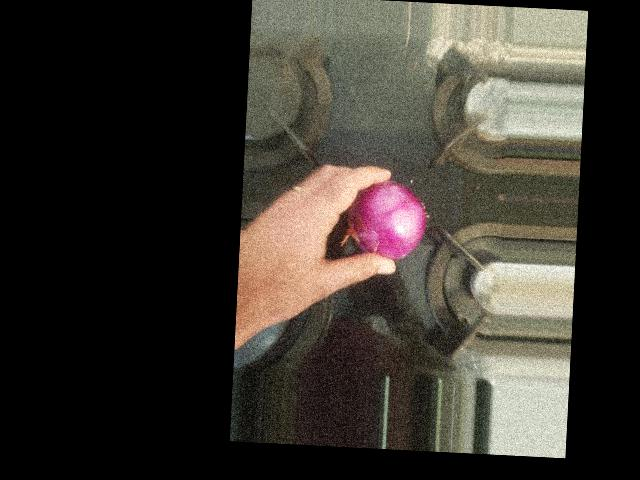onion: (345, 174, 427, 265)
